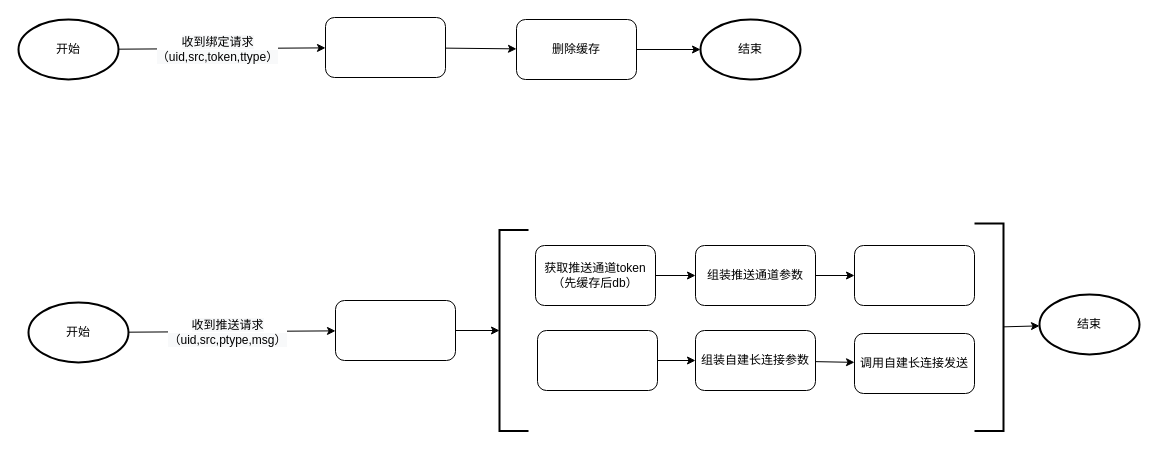
The diagram is 1157 pixels wide and 449 high, and some of its shapes have lost their labels. The centre of each missing label's shape, as x and y in pixels:
"DB添加/更新 绑定信息" goes at (x=385, y=47).
"根据ptype获取 推送通道信息" goes at (x=395, y=330).
"获取长连接token （先缓存后db）" goes at (x=597, y=360).
"调用推送通道发送" goes at (x=914, y=275).
